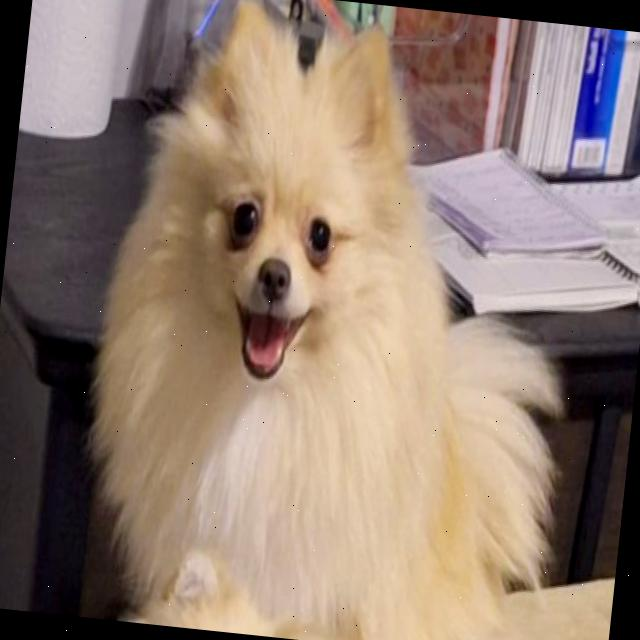pomeranian_dog: (125, 0, 444, 475)
